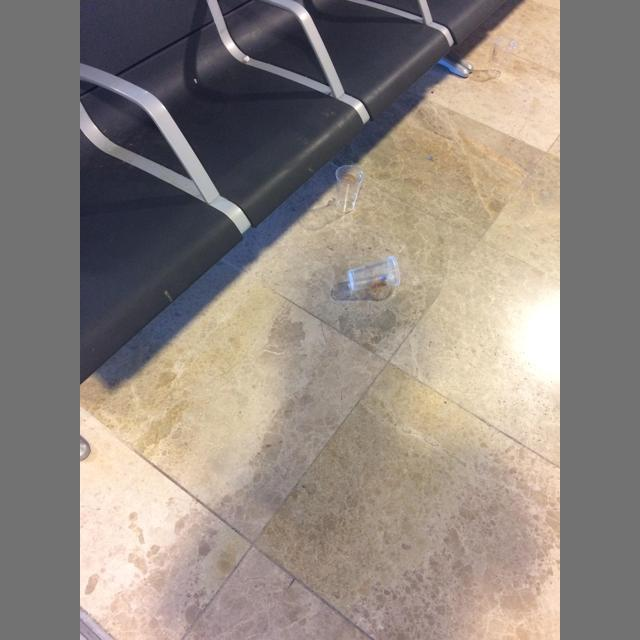litter: (347, 256, 400, 290), (335, 165, 364, 213)
